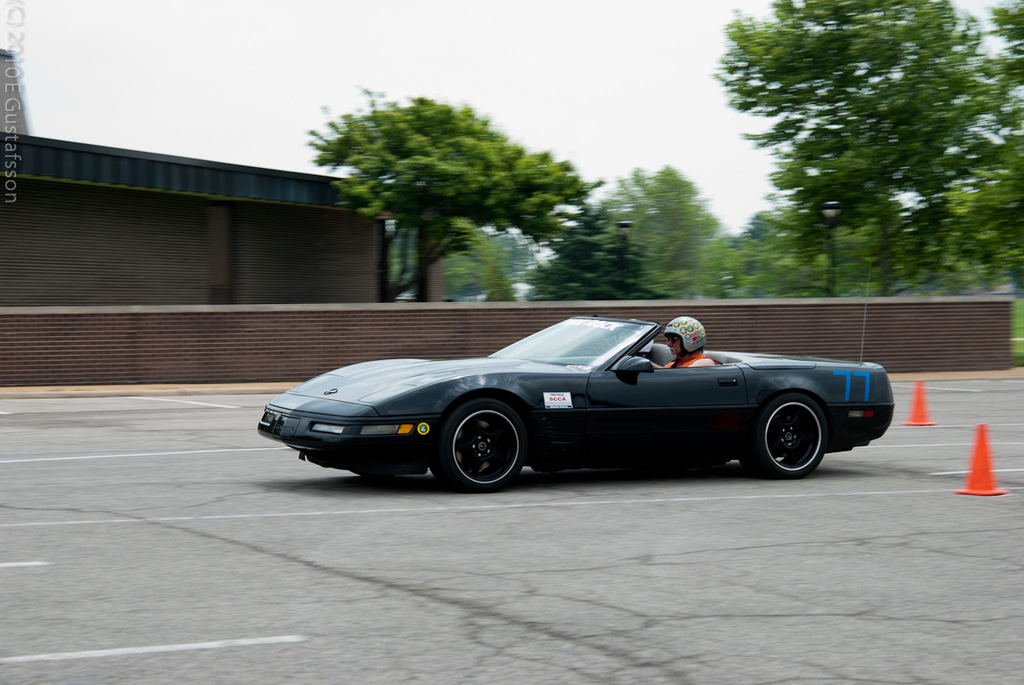car: (258, 315, 896, 493)
